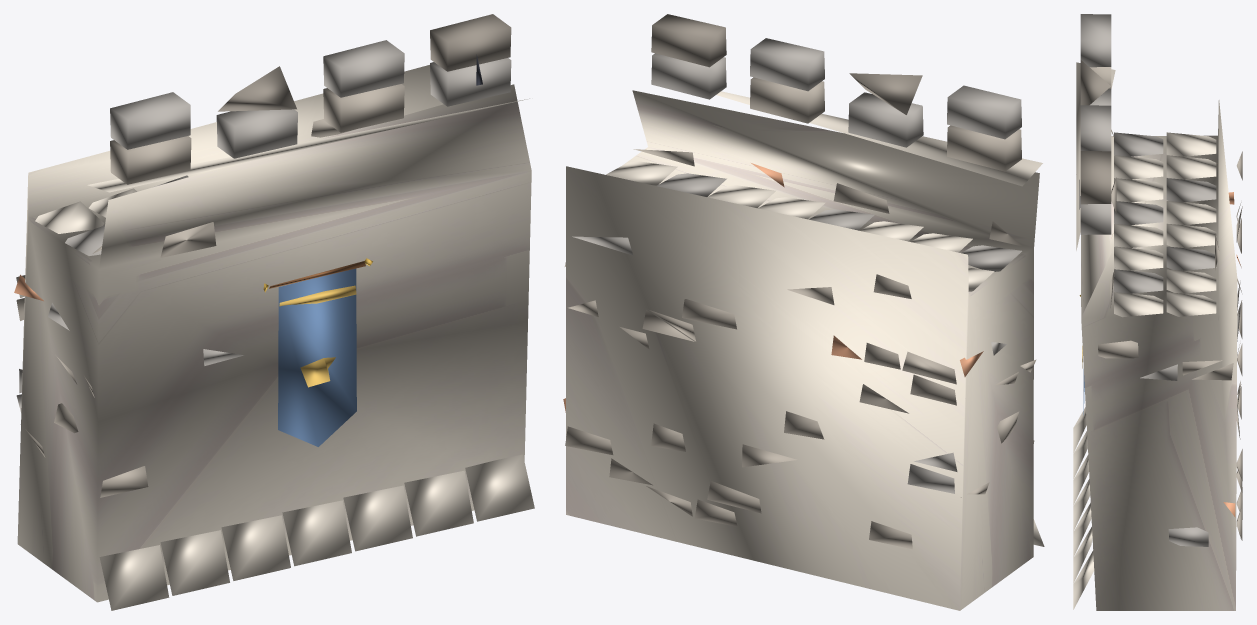
The picture shows the model from 3 angles, left to right: view 1: azimuth 30°, elevation 25°; view 2: azimuth 150°, elevation 25°; view 3: azimuth 270°, elevation 25°; orthographic projection. The views are drawn at different scales.
Parts seen in each view (by area): view 1: castle-wall_body, castle-wall_details; view 2: castle-wall_body, castle-wall_details, castle-wall_stonework; view 3: castle-wall_body, castle-wall_details.
Part boxes in pixels (left/top/right/bottom): castle-wall_body: left=17, top=65, right=531, bottom=602; castle-wall_details: left=16, top=14, right=534, bottom=610; castle-wall_body: left=566, top=90, right=1039, bottom=610; castle-wall_details: left=564, top=14, right=1044, bottom=549; castle-wall_stonework: left=563, top=163, right=983, bottom=412; castle-wall_body: left=1081, top=100, right=1237, bottom=610; castle-wall_details: left=1073, top=14, right=1242, bottom=609.
Size of the model in its own units: 6.12 by 6.5 by 2.36.
Materials: 11 (1 with a texture image).
